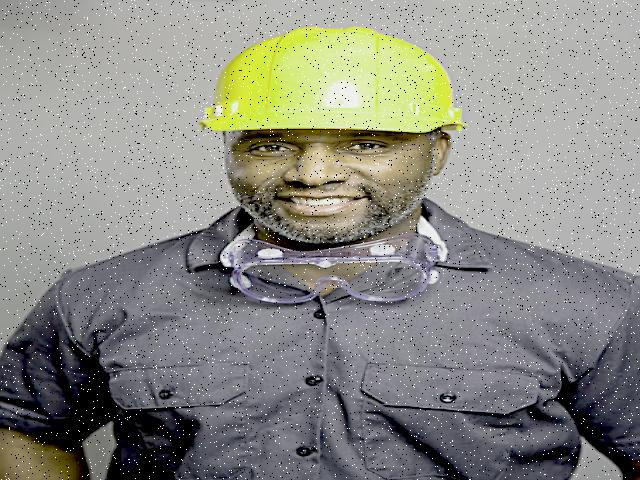Helmet: (196, 20, 474, 153)
